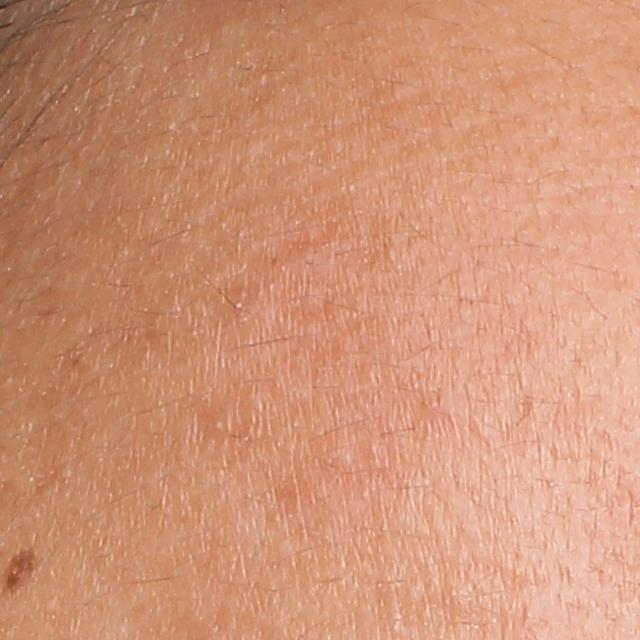nevus: (0, 547, 39, 601)
